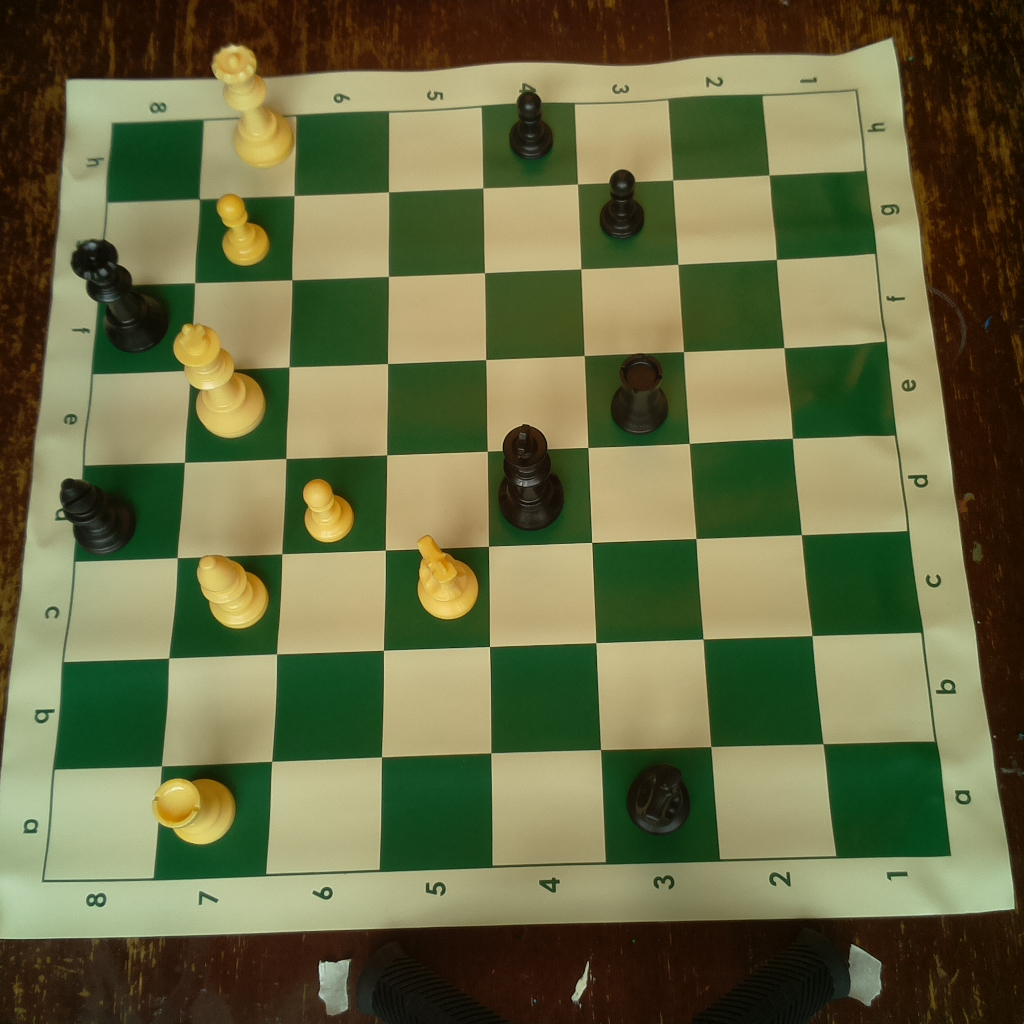black_bishop: (55, 473, 142, 556)
black_king: (494, 418, 566, 531)
black_knight: (621, 754, 693, 838)
black_pawn: (593, 162, 649, 241), (503, 91, 560, 166)
black_queen: (64, 232, 175, 351)
black_rook: (607, 348, 675, 439)
file_a: (44, 740, 953, 884)
file_b: (53, 632, 936, 770)
file_c: (62, 531, 924, 661)
file_d: (73, 436, 910, 561)
file_e: (85, 341, 897, 465)
file_f: (93, 253, 886, 375)
file_g: (101, 170, 875, 290)
file_h: (108, 91, 866, 205)
outline: (42, 88, 955, 883)
rank_1: (762, 92, 953, 861)
rank_2: (668, 96, 836, 858)
rank_3: (575, 99, 723, 864)
rank_4: (484, 102, 608, 864)
rank_5: (379, 105, 493, 873)
rank_6: (263, 110, 392, 875)
rank_7: (151, 115, 299, 880)
rank_8: (42, 122, 206, 883)
white_bishop: (192, 548, 273, 632)
white_king: (164, 318, 271, 436)
white_knight: (407, 532, 479, 622)
white_pawn: (212, 188, 273, 270), (298, 471, 359, 547)
white_queen: (210, 40, 297, 169)
white_rook: (154, 774, 241, 843)
